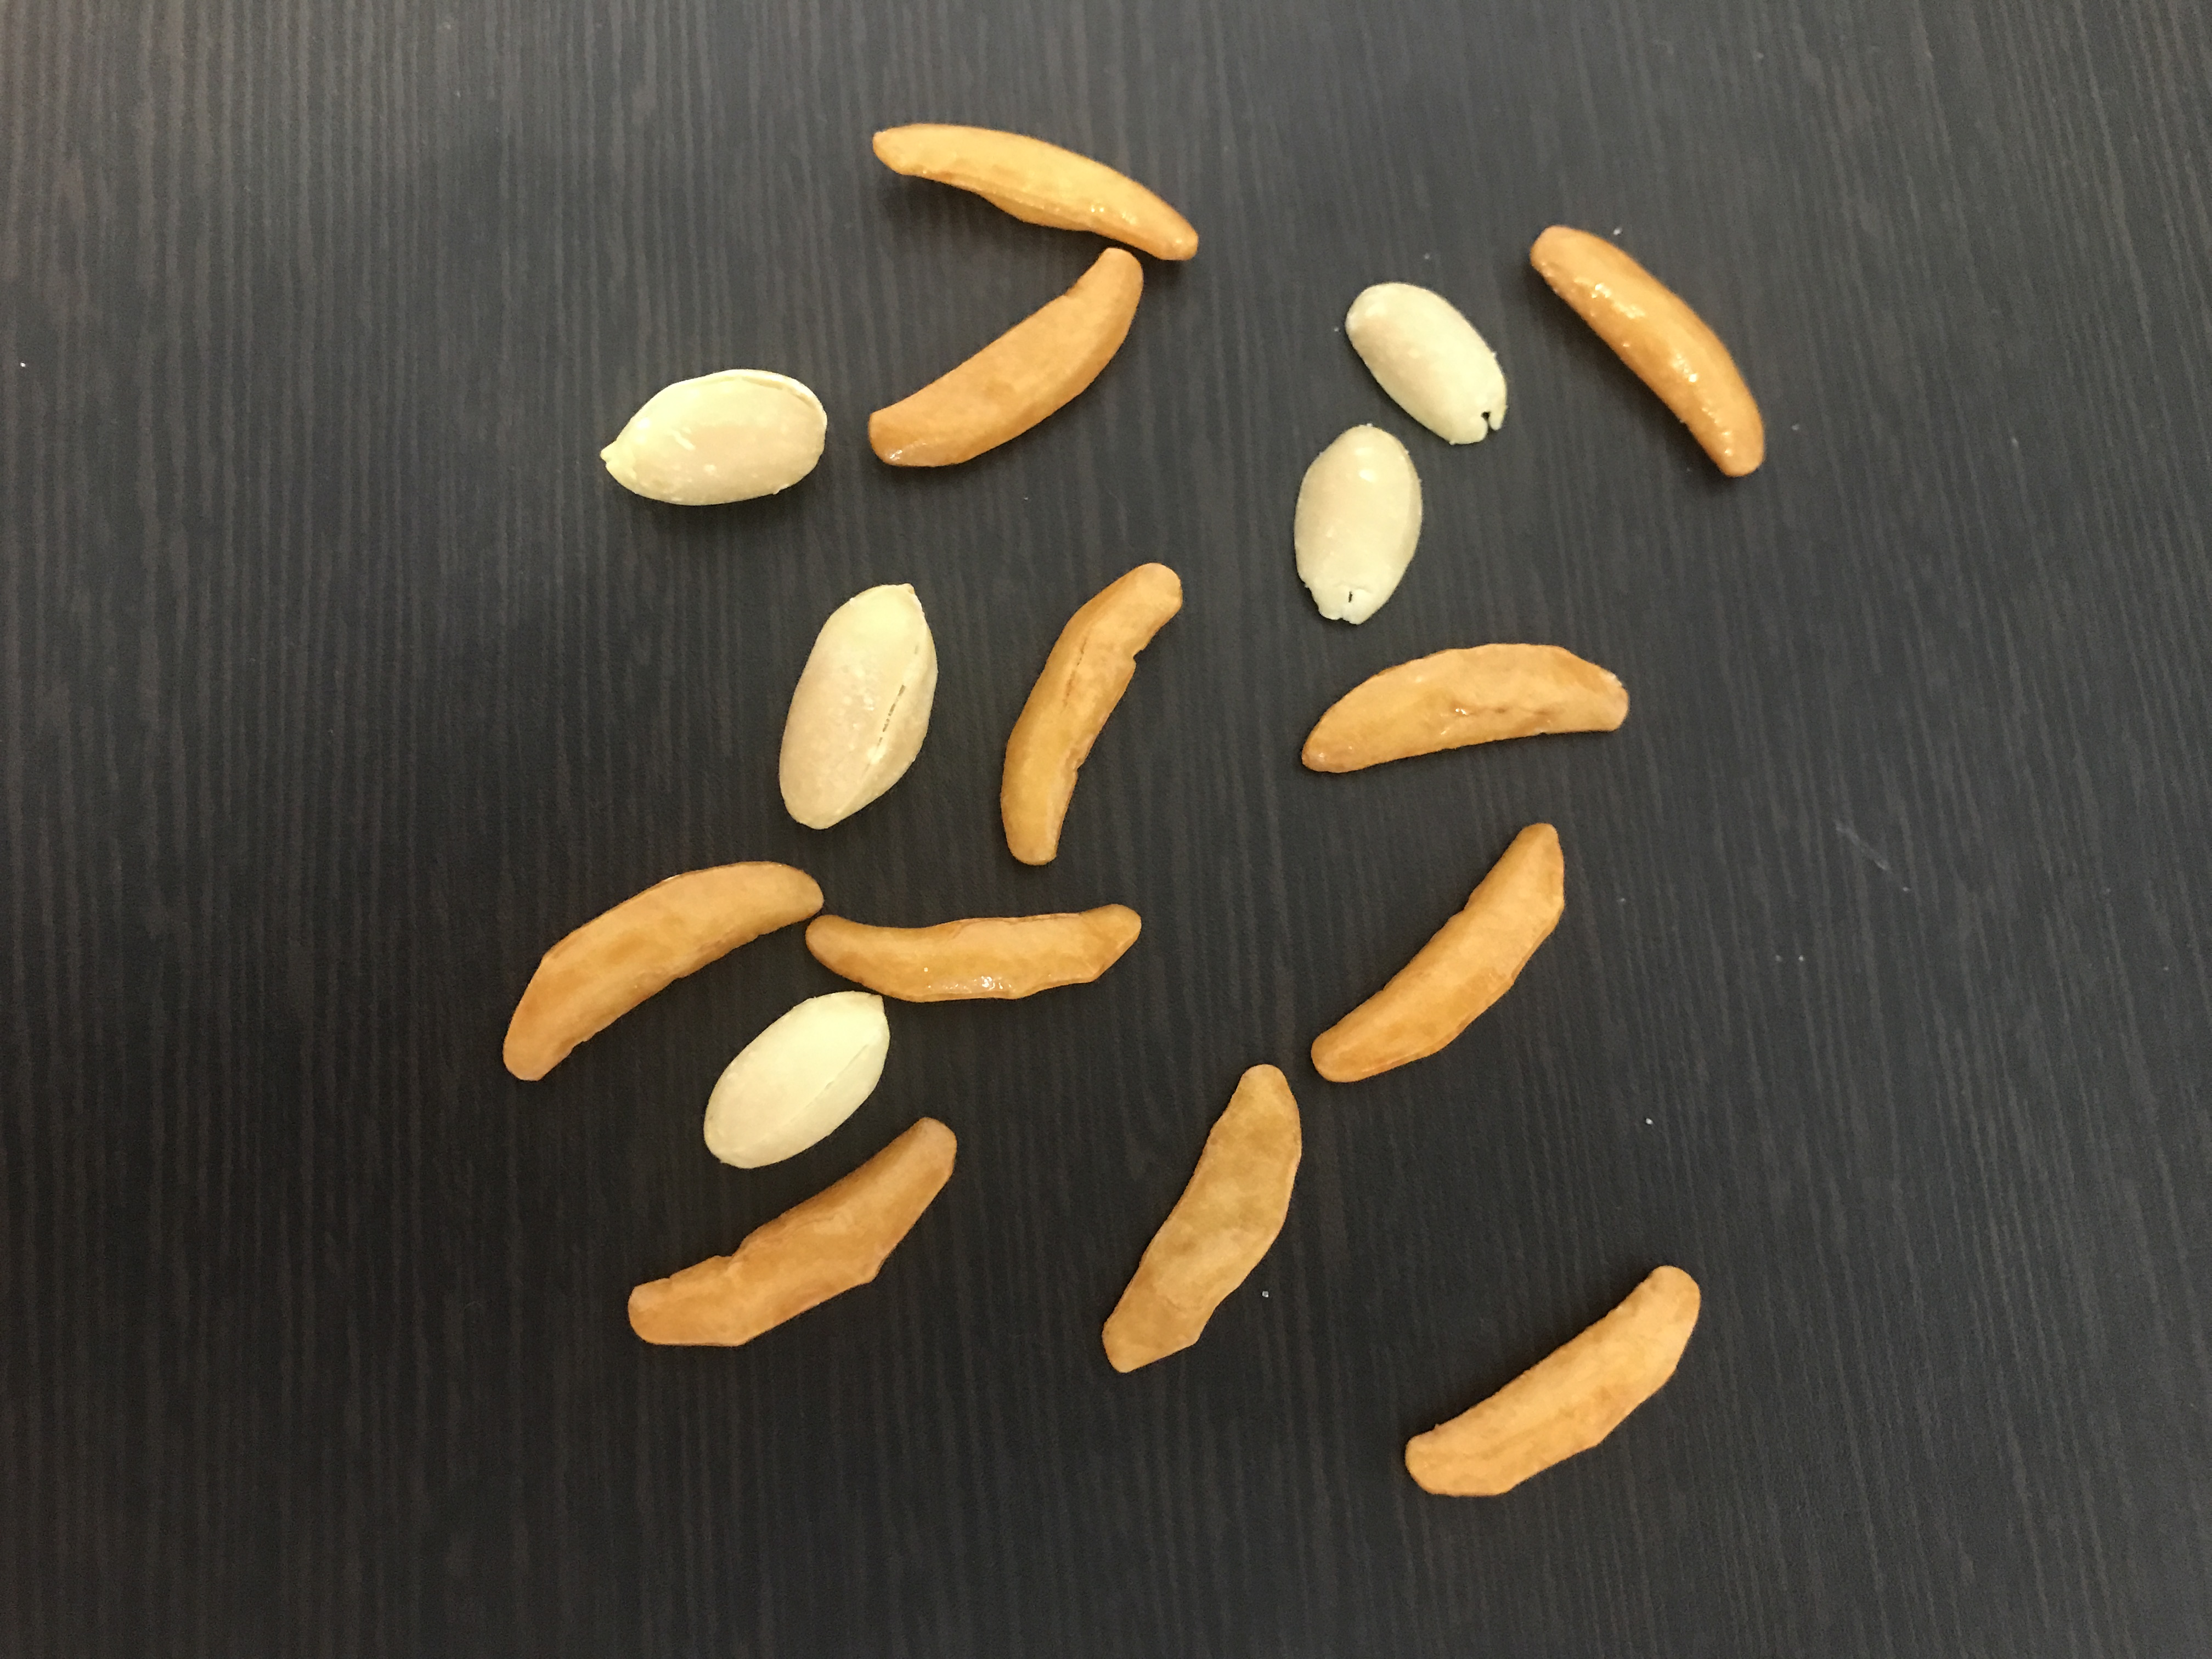peanut: (773, 573, 942, 835), (693, 988, 894, 1175), (596, 361, 838, 511), (1339, 279, 1514, 451), (1287, 423, 1425, 633)
